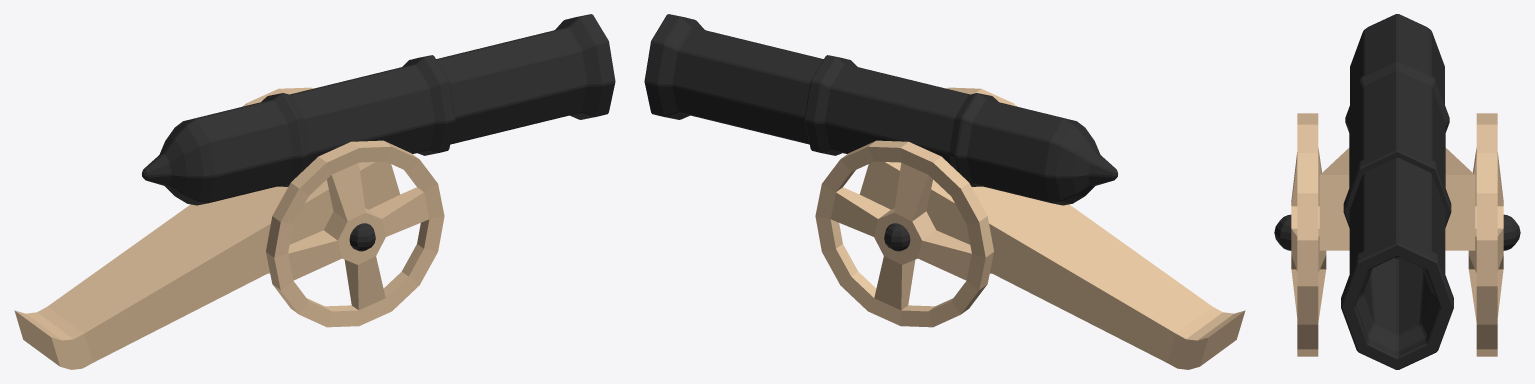
File: Gang.fbx
3 renders of one model, left to right at view 1: azimuth 30°, elevation 25°; view 2: azimuth 150°, elevation 25°; view 3: azimuth 270°, elevation 25°, orthographic. The views are drawn at different scales.
Visible parts, largest first — view 1: Main, Cube, wheele; view 2: Main, Cube, wheele; view 3: Main, wheele, Cube.
Boxes of the visible parts, <box> form: Main: <box>142,14,615,205</box>; Cube: <box>14,161,400,369</box>; wheele: <box>243,87,444,327</box>; Main: <box>644,14,1117,205</box>; Cube: <box>859,161,1245,369</box>; wheele: <box>815,87,1016,327</box>; Main: <box>1341,14,1453,369</box>; wheele: <box>1274,113,1520,356</box>; Cube: <box>1319,148,1475,250</box>.
Size of the model in its own units: 6.49 by 2.39 by 2.
